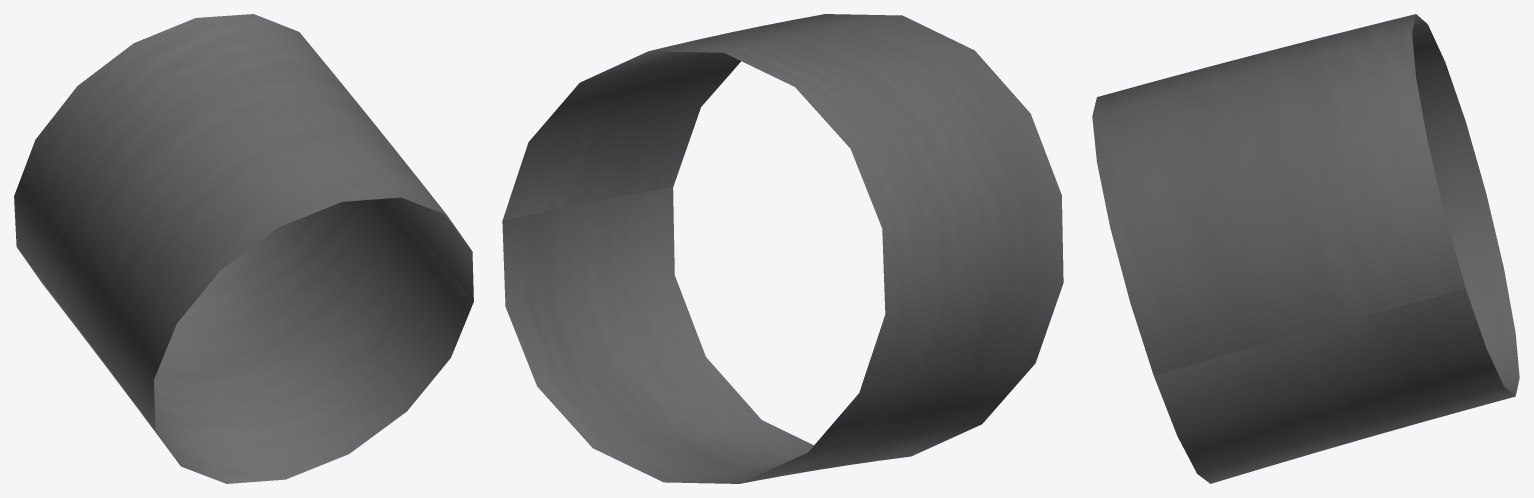
Rendered from mastarmcurve_5x1_c1.obj.
3 views of the same model, side by side, from view 1: azimuth 30°, elevation 25°; view 2: azimuth 150°, elevation 25°; view 3: azimuth 270°, elevation 25° (orthographic). The views are drawn at different scales.
Parts seen in each view (by area): view 1: mastarm_5x1_c1; view 2: mastarm_5x1_c1; view 3: mastarm_5x1_c1.
Part boxes in pixels (bbox=[...]): mastarm_5x1_c1: bbox=[14, 14, 473, 483]; mastarm_5x1_c1: bbox=[502, 14, 1063, 483]; mastarm_5x1_c1: bbox=[1092, 14, 1519, 483].
Bounding box in the file's own units: 0.6 × 0.7088 × 0.636.
